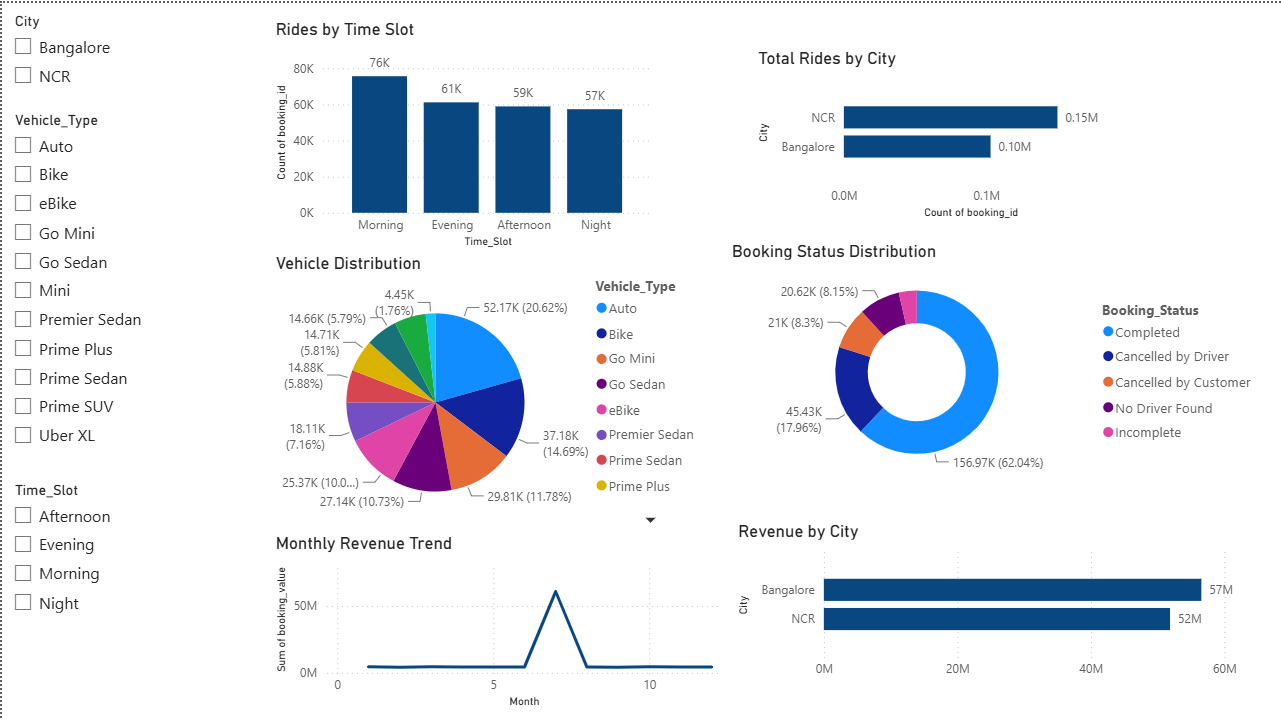

This screenshot's page, from the dashboard's own definition file:
{"tool":"powerbi","page":{"name":"Page 1","canvas":[1280,720],"ordinal":0},"visuals":[{"type":"clusteredBarChart","title":"Total Rides by City","fields":{"Y":["CountNonNull(ride_dw fact_bookings.booking_id)"],"Category":["ride_dw dim_location.City"]},"box":[750.8,45.2,364.4,176.1],"z":0},{"type":"clusteredBarChart","title":"Revenue by City","fields":{"Category":["ride_dw dim_location.City"],"Y":["Sum(ride_dw fact_bookings.booking_value)"]},"box":[731.3,517.3,517.3,166.3],"z":1000},{"type":"columnChart","title":"Rides by Time Slot","fields":{"Category":["ride_dw dim_time.Time_Slot"],"Y":["CountNonNull(ride_dw fact_bookings.booking_id)"]},"box":[269,15.9,387.6,233.6],"z":2000},{"type":"pieChart","title":"Vehicle Distribution","fields":{"Category":["ride_dw dim_vehicle.Vehicle_Type"],"Y":["CountNonNull(ride_dw fact_bookings.booking_id)"]},"box":[269,249.5,437.8,280],"z":3000},{"type":"donutChart","title":"Booking Status Distribution","fields":{"Category":["ride_dw dim_status.Booking_Status"],"Y":["CountNonNull(ride_dw fact_bookings.booking_id)"]},"box":[725.1,237.2,538,244.6],"z":4000},{"type":"lineChart","title":"Monthly Revenue Trend","fields":{"Category":["ride_dw dim_time.Month"],"Y":["Sum(ride_dw fact_bookings.booking_value)"]},"box":[269,529.5,456.1,179.8],"z":5000},{"type":"slicer","fields":{"Values":["ride_dw dim_location.City"]},"box":[0,4.9,155.3,99],"z":6000},{"type":"slicer","fields":{"Values":["ride_dw dim_vehicle.Vehicle_Type"]},"box":[0,103.9,148,369.3],"z":7000},{"type":"slicer","fields":{"Values":["ride_dw dim_time.Time_Slot"]},"box":[0,473.2,155.3,145.5],"z":8000}]}

Visuals, with their boxes in screenshot pixels (x1, y1, x2, y2), scaled from the page's 1280x720 canvas onto the 1281x720 screenshot:
"Total Rides by City" clusteredBarChart: (left=751, top=45, right=1116, bottom=221)
"Revenue by City" clusteredBarChart: (left=732, top=517, right=1250, bottom=684)
"Rides by Time Slot" columnChart: (left=269, top=16, right=657, bottom=250)
"Vehicle Distribution" pieChart: (left=269, top=250, right=707, bottom=530)
"Booking Status Distribution" donutChart: (left=726, top=237, right=1264, bottom=482)
"Monthly Revenue Trend" lineChart: (left=269, top=530, right=726, bottom=709)
slicer - ride_dw dim_location.City: (left=0, top=5, right=155, bottom=104)
slicer - ride_dw dim_vehicle.Vehicle_Type: (left=0, top=104, right=148, bottom=473)
slicer - ride_dw dim_time.Time_Slot: (left=0, top=473, right=155, bottom=619)
